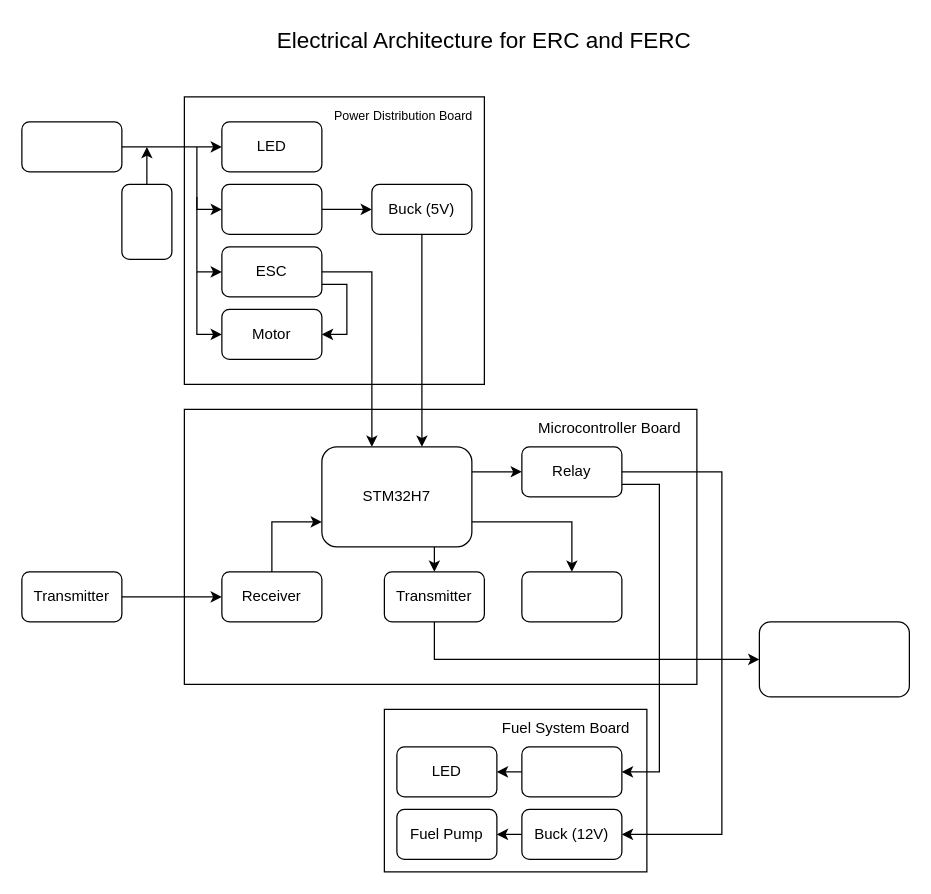
Some shapes in this 931 by 894 pixel diagram are drawn without their labels. Each missing label, with the centre of its shape:
"Battery (12V)" belongs at pixel 71 146.
"Cooling System" belongs at pixel 833 659.
"Fuel Level Sensor" belongs at pixel 571 771.
"Fuse" belongs at pixel 146 221.
"Servo" belongs at pixel 571 596.
"Voltage Regulator" belongs at pixel 271 208.
